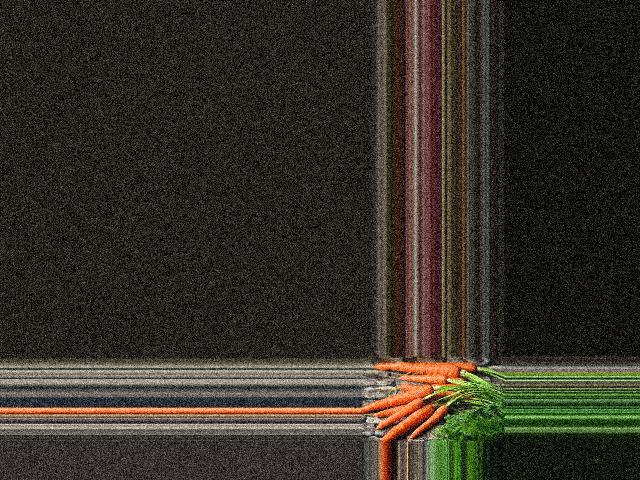carrot: (412, 404, 450, 438)
